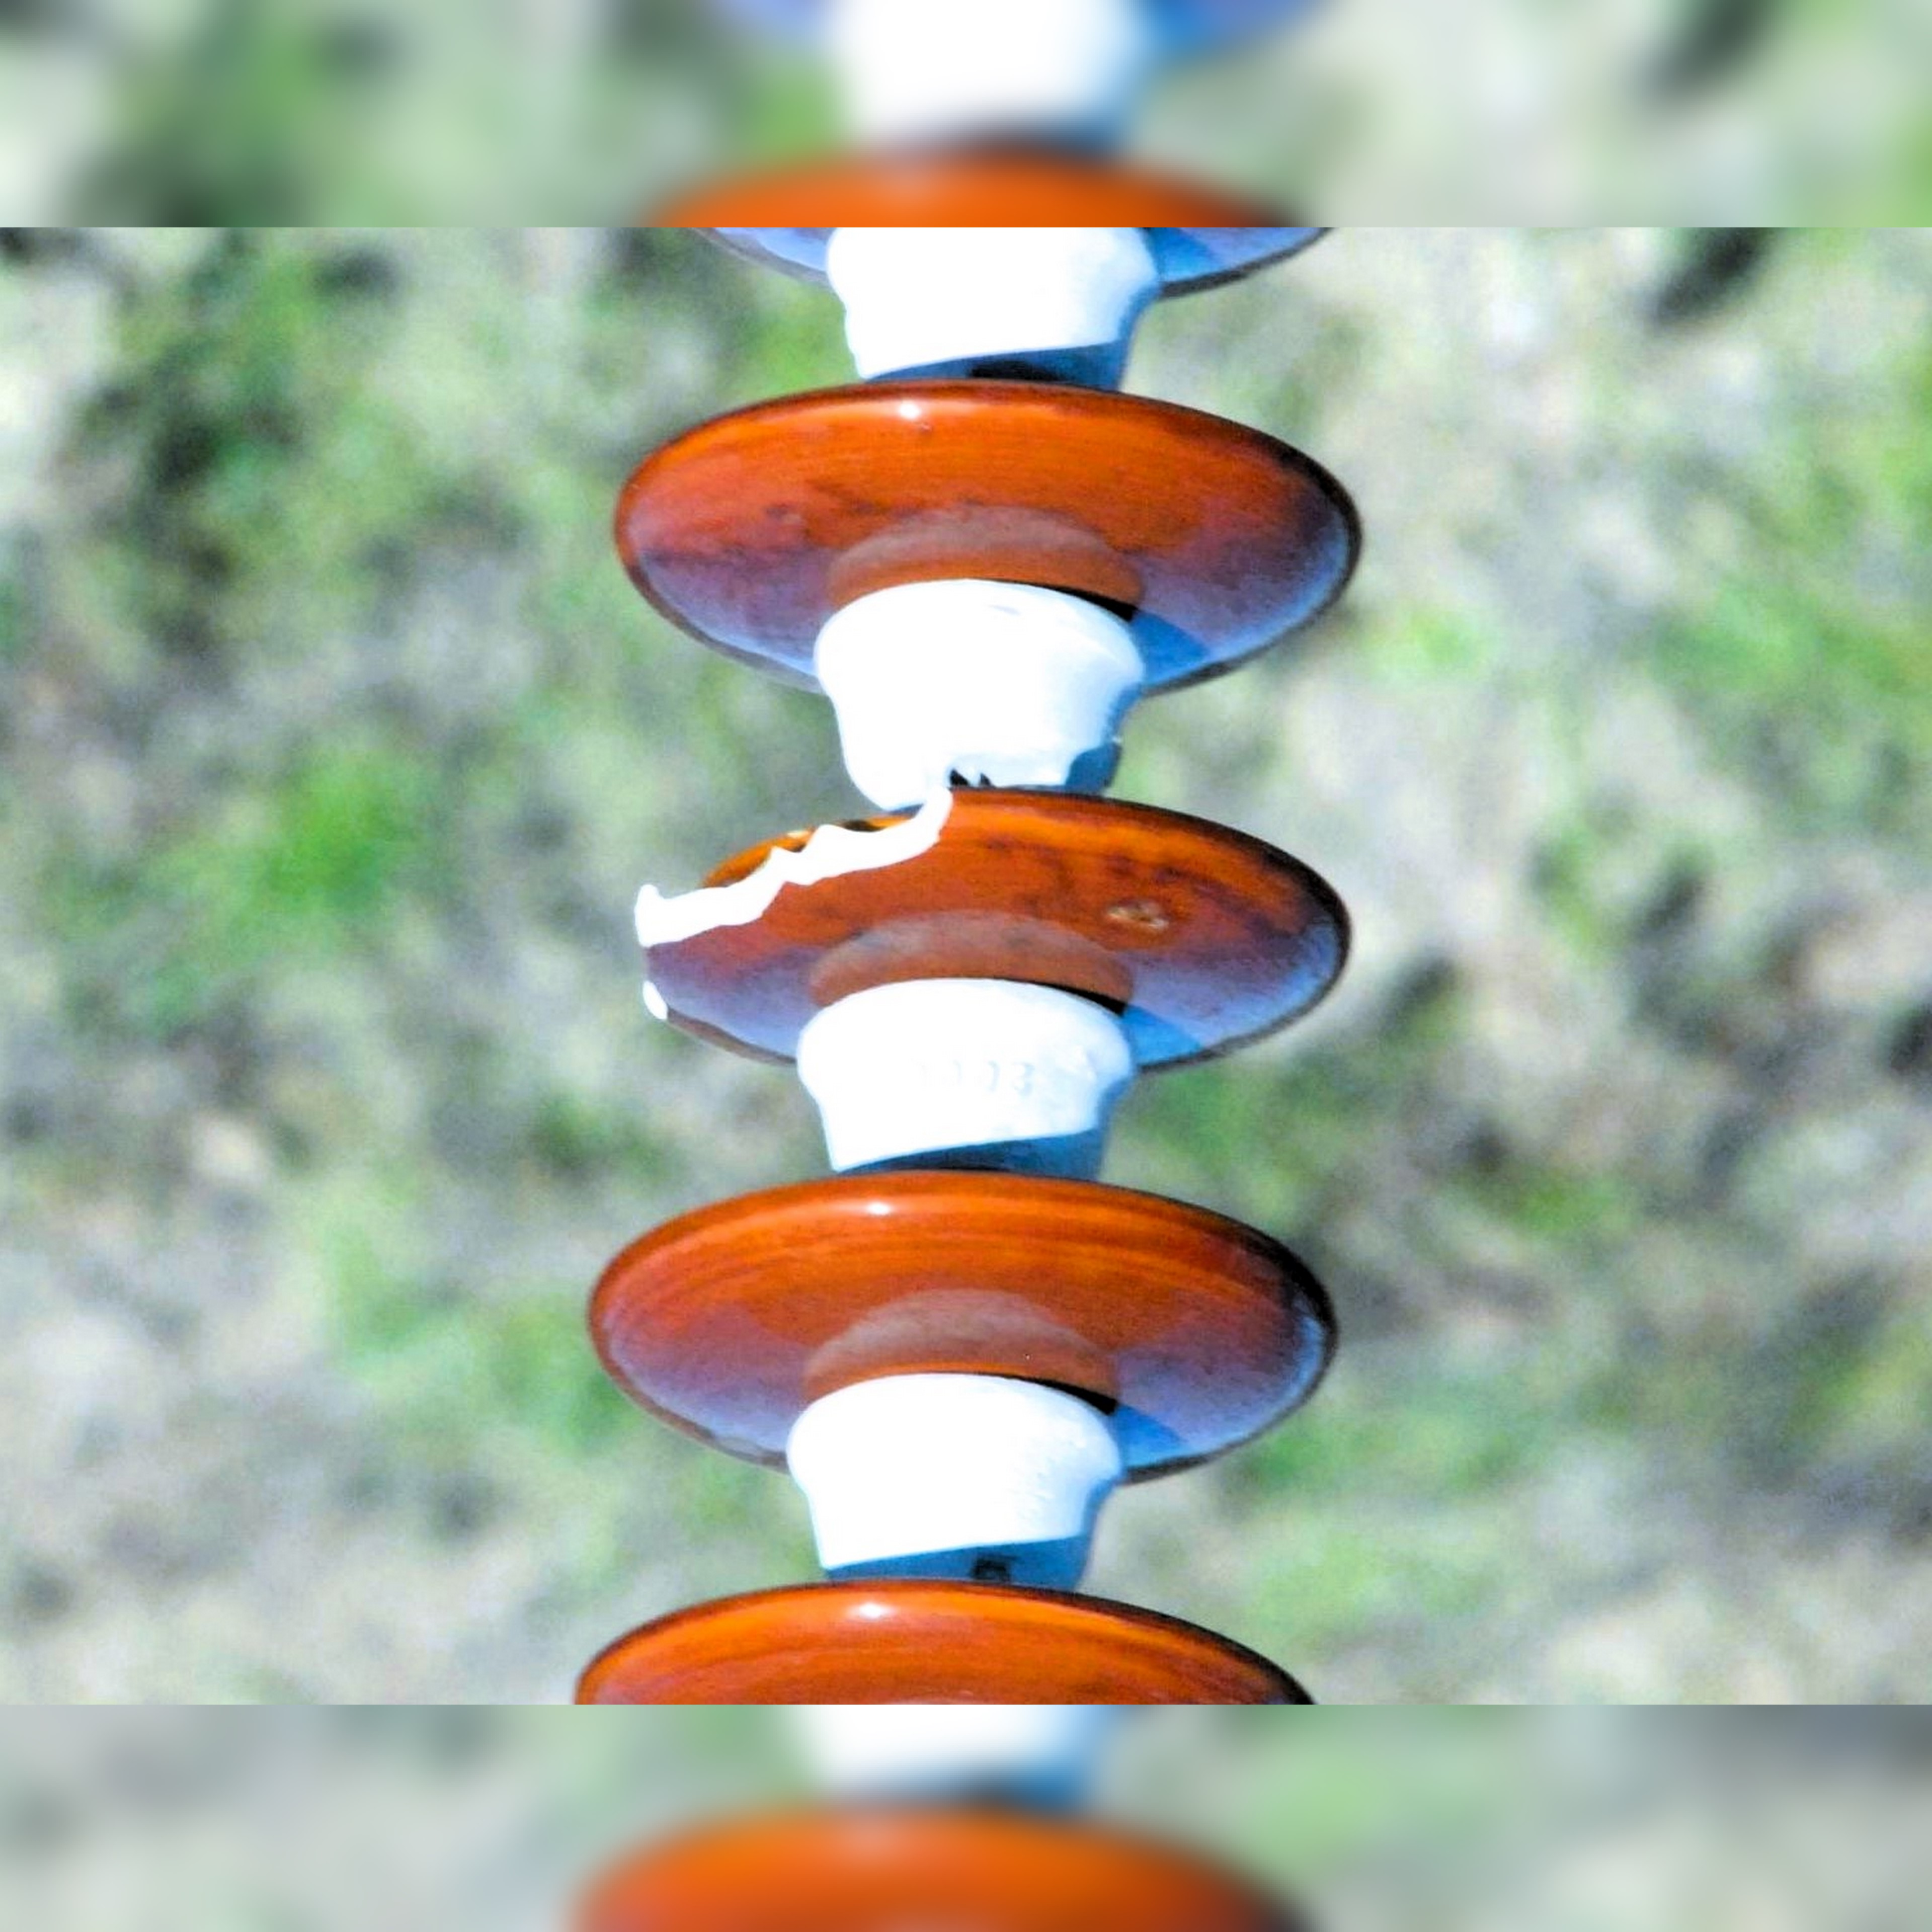insulator breakage: (607, 771, 1362, 1088)
